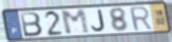2: (44, 10, 65, 37)
8: (108, 6, 130, 33)
B: (18, 11, 44, 38)
J: (90, 9, 106, 33)
M: (59, 8, 92, 36)
R: (128, 5, 155, 33)
